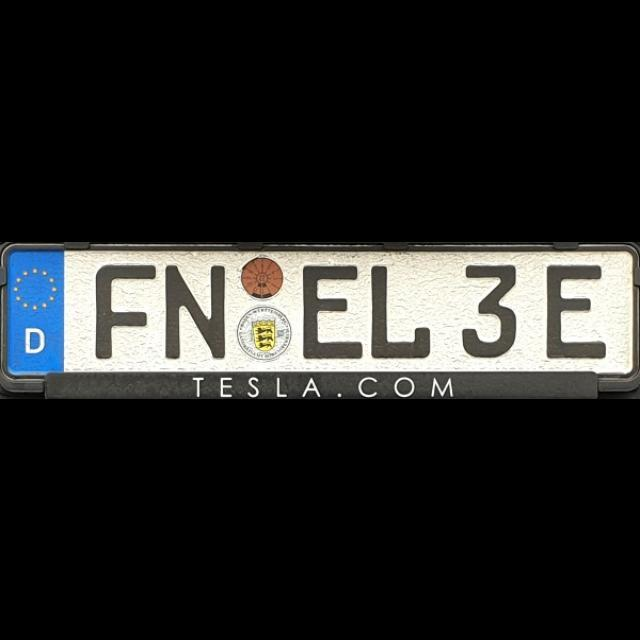license-plates: (5, 249, 634, 376)
